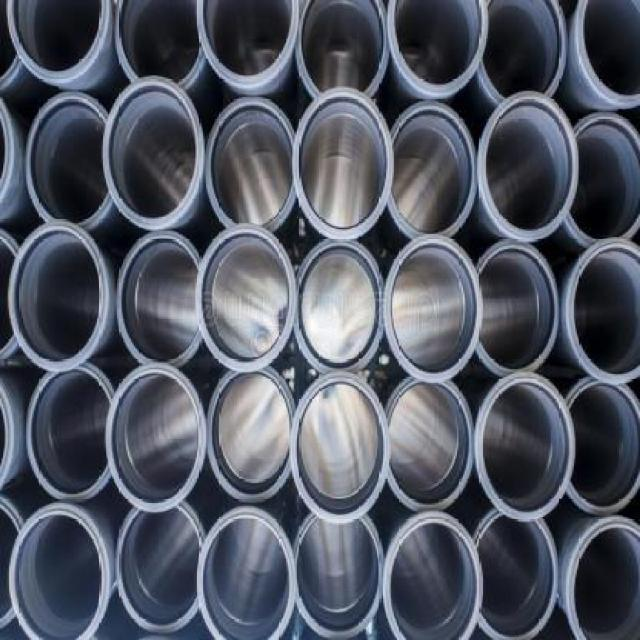pipe: (292, 86, 394, 242), (102, 75, 204, 231), (289, 372, 391, 526), (8, 222, 110, 373), (477, 89, 579, 240), (105, 363, 206, 514), (476, 371, 576, 522), (196, 223, 297, 372), (383, 234, 483, 383), (8, 505, 111, 639), (196, 505, 297, 639), (383, 511, 483, 639), (205, 97, 298, 233), (388, 102, 477, 239), (25, 93, 114, 230), (207, 366, 296, 502), (116, 498, 205, 634), (294, 241, 385, 374), (26, 365, 114, 502), (385, 376, 474, 511), (115, 231, 203, 366), (474, 240, 560, 376), (471, 510, 560, 639), (292, 513, 383, 639), (565, 237, 639, 385), (562, 376, 639, 516), (563, 111, 639, 250), (386, 1, 489, 97), (294, 2, 391, 99), (563, 516, 639, 639), (477, 2, 568, 104), (197, 2, 300, 87), (6, 0, 111, 83), (116, 2, 207, 91), (576, 2, 639, 110)
